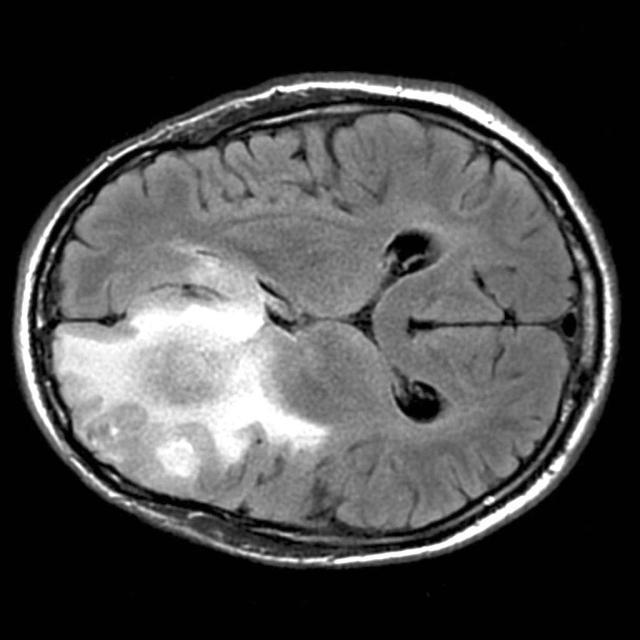tumor: (53, 286, 328, 495)
